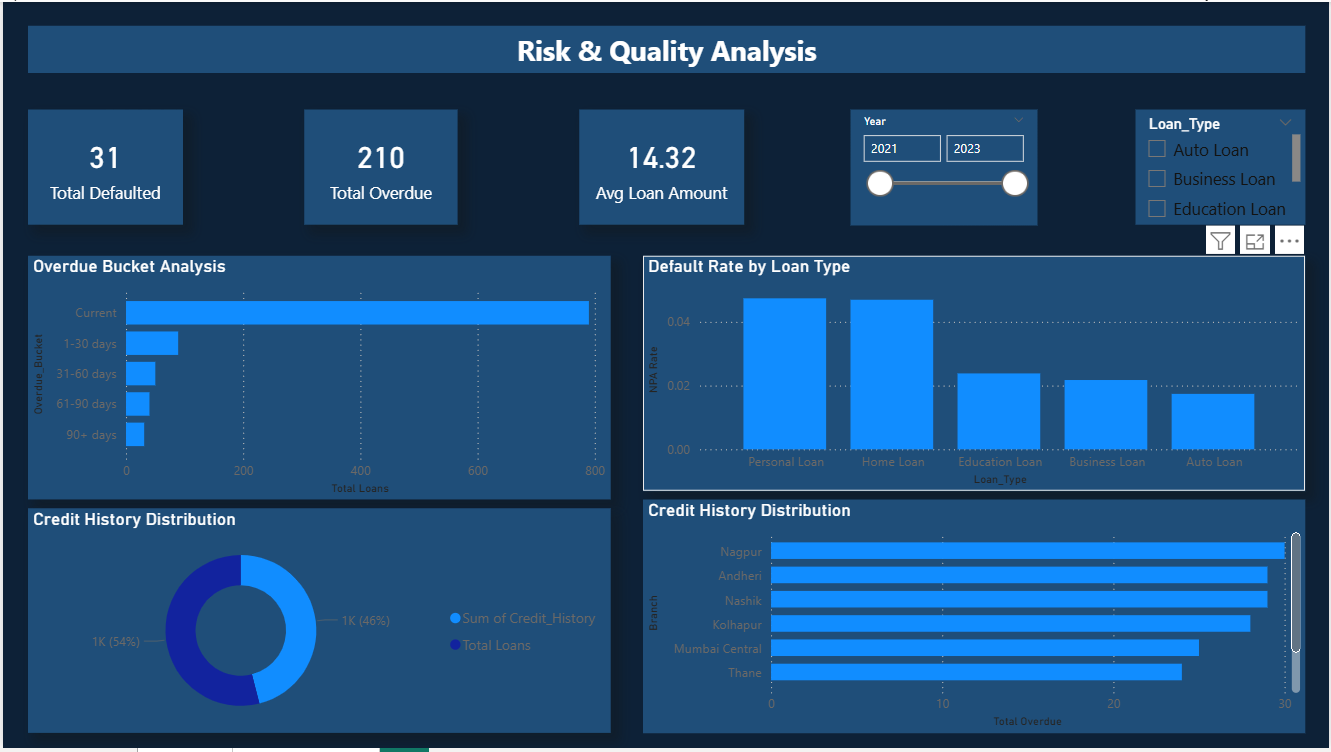

This screenshot's page, from the dashboard's own definition file:
{"tool":"powerbi","page":{"name":"Risk & Quality","canvas":[1280,720],"ordinal":1},"visuals":[{"type":"card","fields":{"Values":["DateDim.Total Defaulted"]},"box":[24.1,103.8,149.6,111],"z":0},{"type":"card","fields":{"Values":["DateDim.Total Overdue"]},"box":[290.8,103.8,148.4,111],"z":1000},{"type":"card","fields":{"Values":["DateDim.Avg Loan Amount"]},"box":[556.2,103.8,159.3,111],"z":2000},{"type":"clusteredBarChart","title":"Overdue Bucket Analysis","fields":{"Category":["loan_portfolio_data (1).Overdue_Bucket"],"Y":["DateDim.Total Loans"]},"box":[24.1,244.9,562.2,235.3],"z":3000},{"type":"clusteredColumnChart","title":"Default Rate by Loan Type","fields":{"Category":["loan_portfolio_data (1).Loan_Type"],"Y":["DateDim.NPA Rate"]},"box":[617.7,244.9,639.4,226.8],"z":4000},{"type":"donutChart","title":"Credit History Distribution","fields":{"Y":["Sum(loan_portfolio_data (1).Credit_History)","DateDim.Total Loans"]},"box":[24.1,488.6,562.2,217.2],"z":5000},{"type":"barChart","title":"Credit History Distribution","fields":{"Category":["loan_portfolio_data (1).Branch"],"Y":["DateDim.Total Overdue"]},"box":[617.7,480.2,639.4,225.6],"z":6000},{"type":"textbox","box":[24.1,22.9,1233,45.8],"z":7000},{"type":"slicer","fields":{"Values":["DateDim.Year"]},"box":[818,103.8,179.8,111],"z":7001},{"type":"slicer","fields":{"Values":["loan_portfolio_data (1).Loan_Type"]},"box":[1093,103.8,164.1,111],"z":7002}]}

Visuals, with their boxes in screenshot pixels (x1, y1, x2, y2), scaled from the page's 1280x720 canvas onto the 1331x752 screenshot:
card - DateDim.Total Defaulted: locate(25, 108, 181, 224)
card - DateDim.Total Overdue: locate(302, 108, 457, 224)
card - DateDim.Avg Loan Amount: locate(578, 108, 744, 224)
"Overdue Bucket Analysis" clusteredBarChart: locate(25, 256, 610, 502)
"Default Rate by Loan Type" clusteredColumnChart: locate(642, 256, 1307, 493)
"Credit History Distribution" donutChart: locate(25, 510, 610, 737)
"Credit History Distribution" barChart: locate(642, 502, 1307, 737)
textbox: locate(25, 24, 1307, 72)
slicer - DateDim.Year: locate(851, 108, 1038, 224)
slicer - loan_portfolio_data (1).Loan_Type: locate(1137, 108, 1307, 224)
